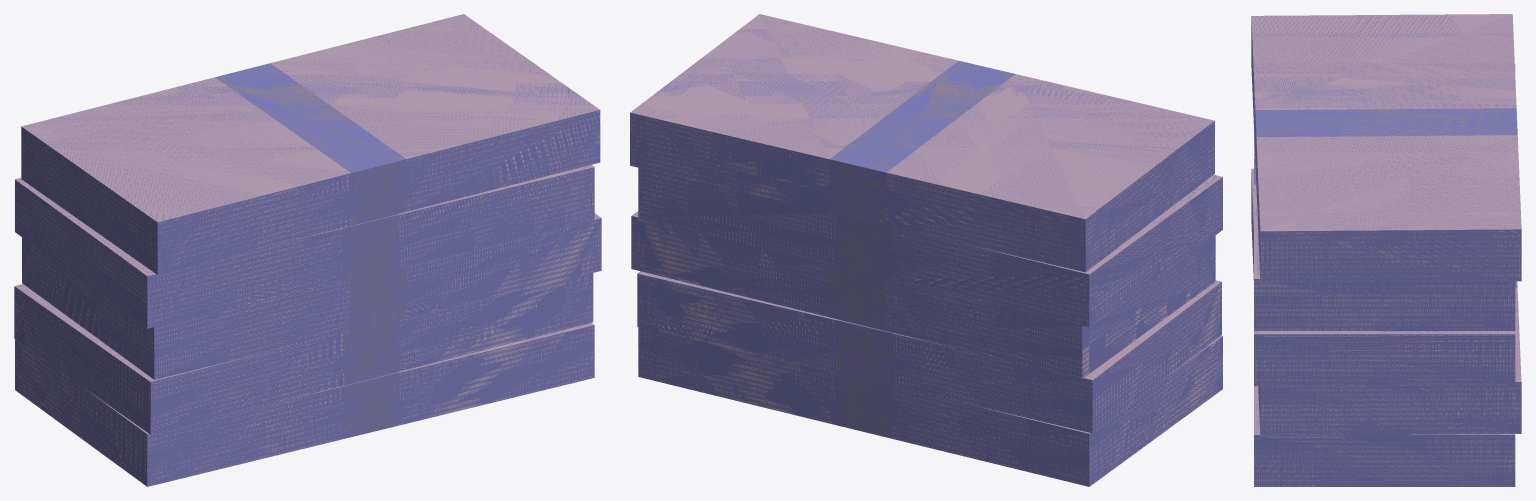
Rendered from 500Euros.fbx.
3 renders of one model, left to right at view 1: azimuth 30°, elevation 25°; view 2: azimuth 150°, elevation 25°; view 3: azimuth 270°, elevation 25°, orthographic. The views are drawn at different scales.
Parts seen in each view (by area): view 1: G_500_Euro_stack5, G_500_Euro_stack4, G_500_Euro_stack2, G_500_Euro_stack1, G_500_Euro_stack3; view 2: G_500_Euro_stack5, G_500_Euro_stack2, G_500_Euro_stack4, G_500_Euro_stack1, G_500_Euro_stack3; view 3: G_500_Euro_stack5, G_500_Euro_stack3, G_500_Euro_stack1, G_500_Euro_stack2, G_500_Euro_stack4.
Boxes of the visible parts, x1,y1,x2,y2 form: G_500_Euro_stack5: (21,14,600,274); G_500_Euro_stack4: (15,165,594,328); G_500_Euro_stack2: (14,273,593,434); G_500_Euro_stack1: (15,323,594,486); G_500_Euro_stack3: (22,213,601,379); G_500_Euro_stack5: (630,14,1214,272); G_500_Euro_stack2: (637,271,1221,433); G_500_Euro_stack4: (638,167,1222,327); G_500_Euro_stack1: (638,327,1222,486); G_500_Euro_stack3: (631,211,1215,378); G_500_Euro_stack5: (1251,14,1521,283); G_500_Euro_stack3: (1254,331,1515,386); G_500_Euro_stack1: (1254,386,1515,486); G_500_Euro_stack2: (1251,168,1521,435); G_500_Euro_stack4: (1254,64,1515,330).
Bounding box in the file's own units: 0.1639 × 0.09 × 0.0848.
